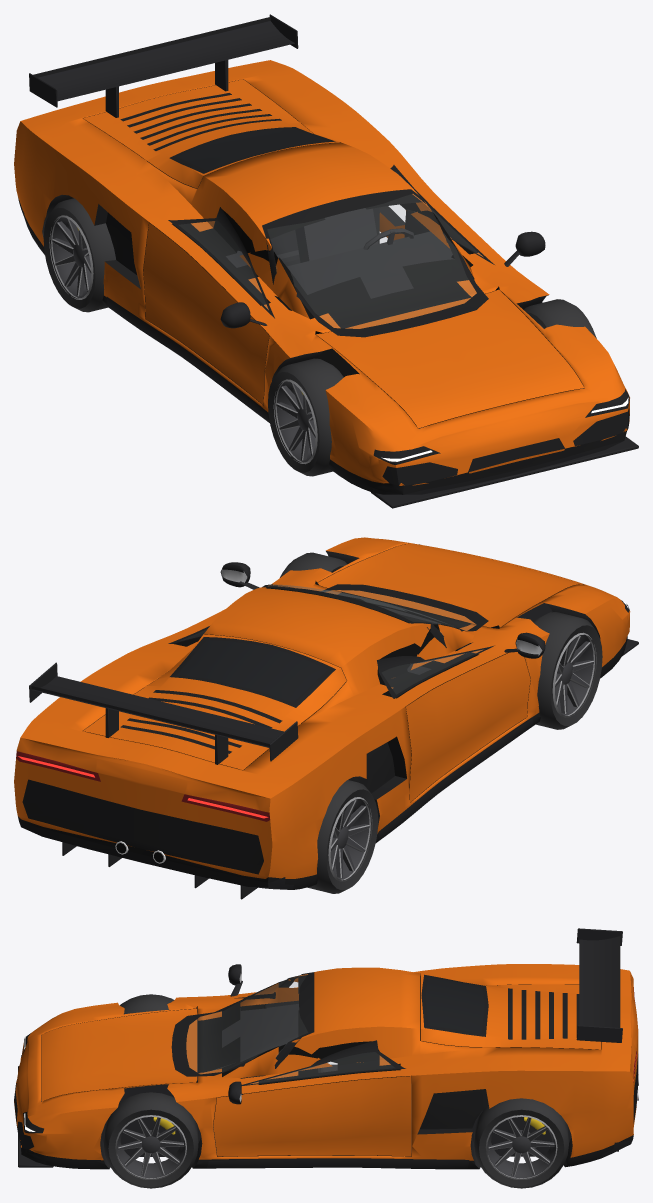
The model's file is h3-v17-supercar.glb.
3 renders of one model, top to bottom at view 1: azimuth 30°, elevation 25°; view 2: azimuth 150°, elevation 25°; view 3: azimuth 270°, elevation 25°, orthographic. The views are drawn at different scales.
Parts seen in each view (by area): view 1: body, glass_windshield, bonnet_body, boot_body, door_R_body, interior, wing_blade, wheel_FR_mesh, wheel_RR_mesh, door_R_glass_side_R, aero, wheel_FL_mesh (+3 smaller); view 2: body, boot_body, bonnet_body, door_R_body, wheel_FR_mesh, wing_blade, wheel_RR_mesh, glass_windshield, door_R_glass_side_R, aero, wheel_FL_mesh, mirror_R (+1 smaller); view 3: body, door_L_body, boot_body, bonnet_body, glass_windshield, wheel_FL_mesh, wheel_RL_mesh, wing_blade, interior, door_L_glass_side_L, wheel_FR_mesh.
Boxes of the visible parts, bbox=[...] form: body: bbox=[14, 60, 629, 494]; glass_windshield: bbox=[262, 189, 488, 337]; bonnet_body: bbox=[315, 286, 584, 428]; boot_body: bbox=[83, 79, 340, 188]; door_R_body: bbox=[143, 222, 291, 405]; interior: bbox=[226, 207, 454, 310]; wing_blade: bbox=[29, 14, 298, 107]; wheel_FR_mesh: bbox=[268, 358, 343, 476]; wheel_RR_mesh: bbox=[43, 198, 115, 312]; door_R_glass_side_R: bbox=[168, 207, 274, 318]; aero: bbox=[105, 60, 638, 508]; wheel_FL_mesh: bbox=[524, 299, 596, 338]; body: bbox=[14, 537, 630, 889]; boot_body: bbox=[83, 634, 346, 770]; bonnet_body: bbox=[315, 543, 583, 628]; door_R_body: bbox=[405, 642, 530, 802]; wheel_FR_mesh: bbox=[533, 612, 602, 729]; wing_blade: bbox=[29, 662, 298, 761]; wheel_RR_mesh: bbox=[307, 780, 378, 893]; glass_windshield: bbox=[262, 584, 488, 647]; door_R_glass_side_R: bbox=[377, 645, 494, 698]; aero: bbox=[62, 639, 638, 899]; wheel_FL_mesh: bbox=[280, 552, 347, 577]; mirror_R: bbox=[504, 632, 545, 658]; body: bbox=[14, 964, 638, 1169]; door_L_body: bbox=[213, 1075, 411, 1156]; boot_body: bbox=[420, 973, 600, 1049]; bonnet_body: bbox=[41, 1006, 197, 1101]; glass_windshield: bbox=[171, 972, 314, 1076]; wheel_FL_mesh: bbox=[104, 1092, 198, 1188]; wheel_RL_mesh: bbox=[474, 1098, 568, 1188]; wing_blade: bbox=[576, 928, 622, 1042]; interior: bbox=[222, 1004, 411, 1152]; door_L_glass_side_L: bbox=[241, 1040, 405, 1085]; wheel_FR_mesh: bbox=[120, 994, 174, 1014].
Size of the model in its own units: 2.24 by 1.27 by 4.56.
